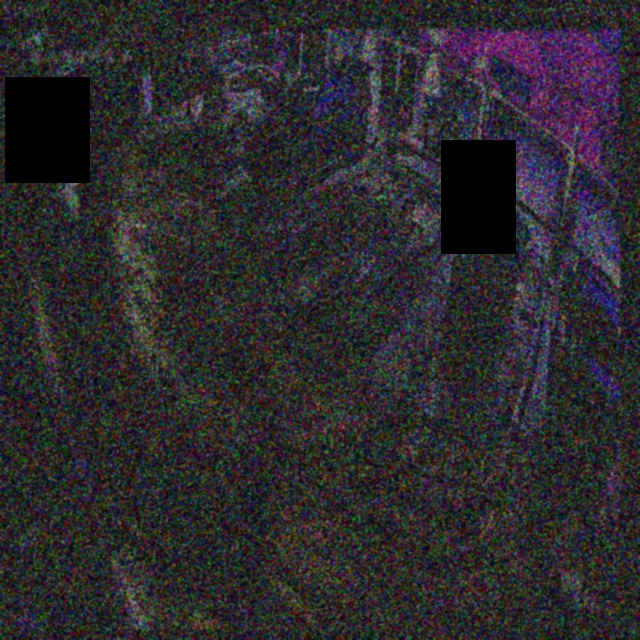Car: (239, 57, 370, 200), (449, 197, 529, 337)
